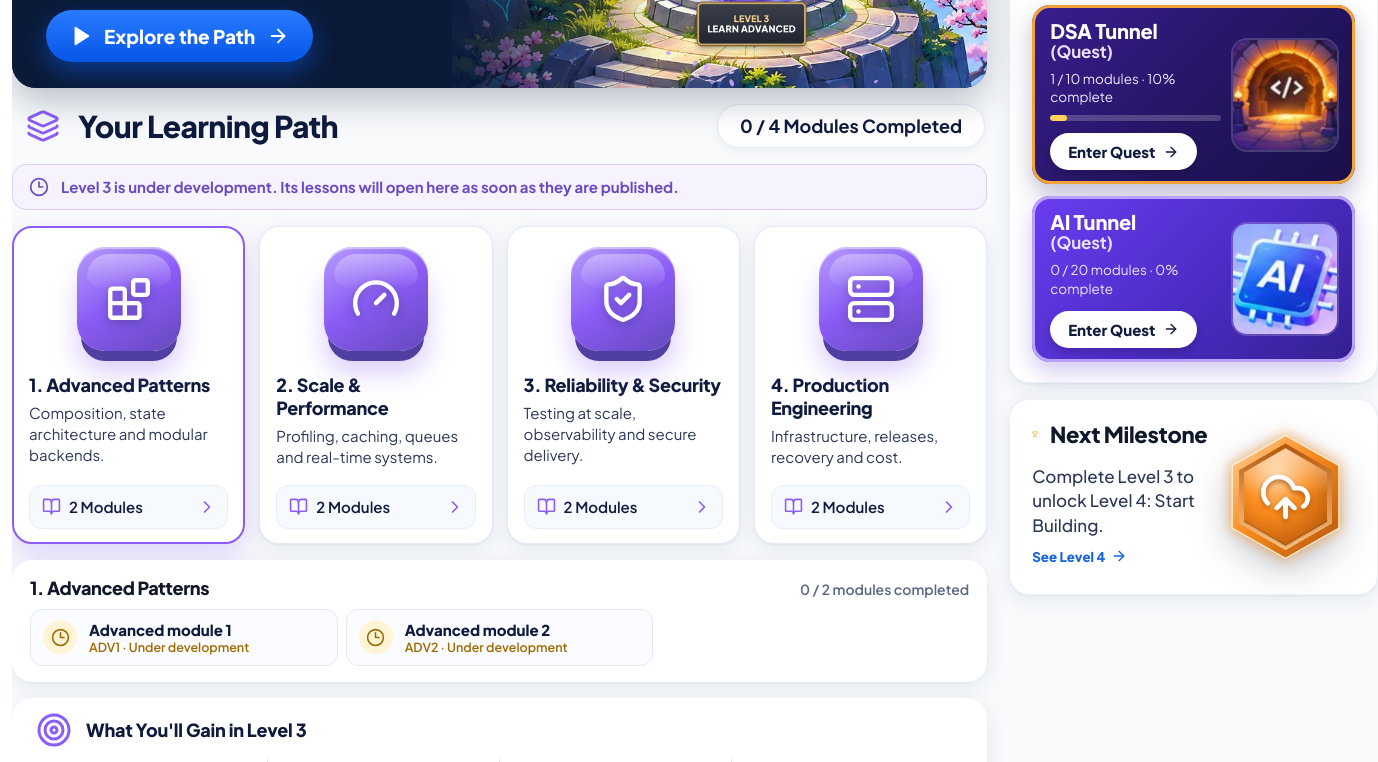
it: Full learning path of Levels 3–10 › Level 3 fills its groups with the backend Development Advanced modules
(page scrolled)
Check: the text "Advanced module 1" is shown, box left=89, top=620, right=232, bottom=639
Click the button "Production Engineering" at [871, 385], box left=754, top=226, right=987, bottom=544
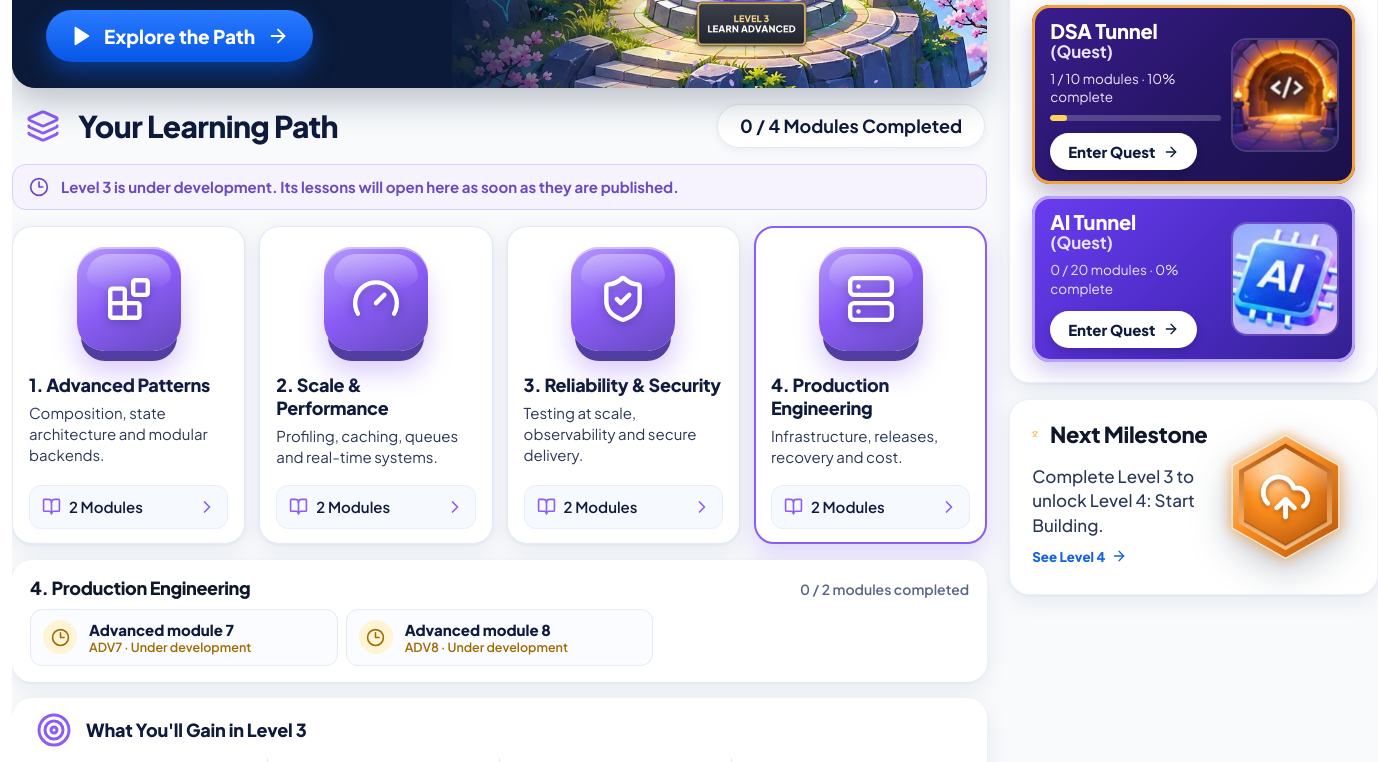
Check: the text "ADV8 · Under development" is shown once, box left=405, top=639, right=568, bottom=655
Check: the text "Advanced module 8" is shown, box left=405, top=620, right=551, bottom=639
